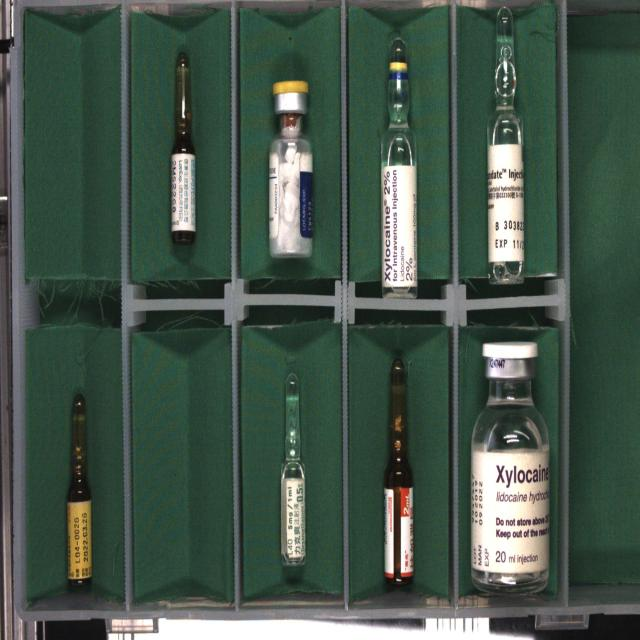Vials: (470, 342, 550, 593), (269, 81, 313, 258)
